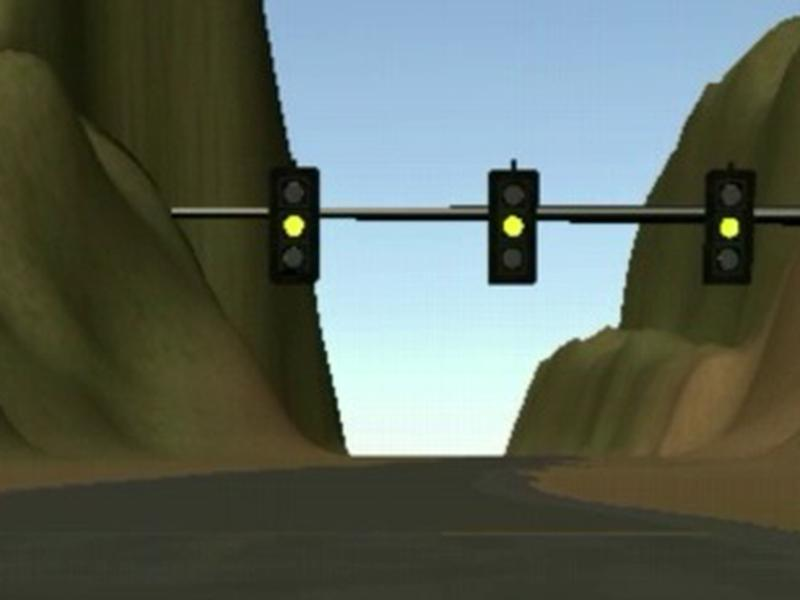Yellow: (702, 168, 756, 284), (487, 168, 538, 286), (269, 168, 319, 284)
